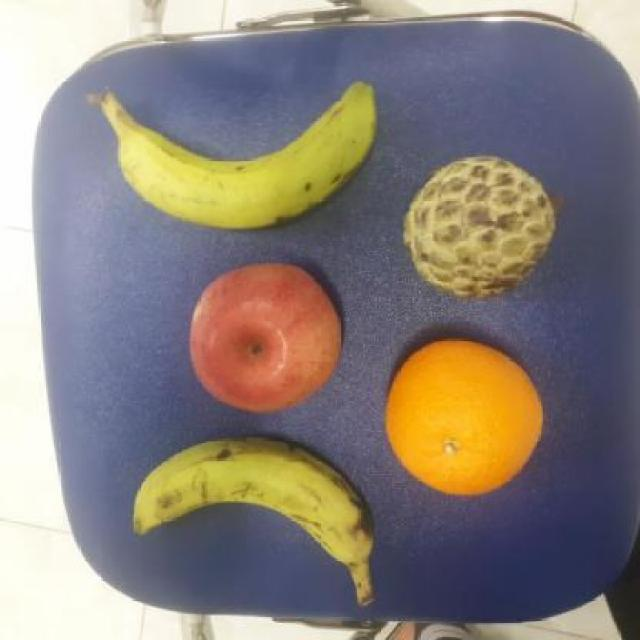apple: (186, 258, 346, 414)
banana: (100, 79, 378, 233), (129, 433, 376, 578)
oren: (374, 335, 548, 497)
sugar apple: (402, 152, 560, 300)
